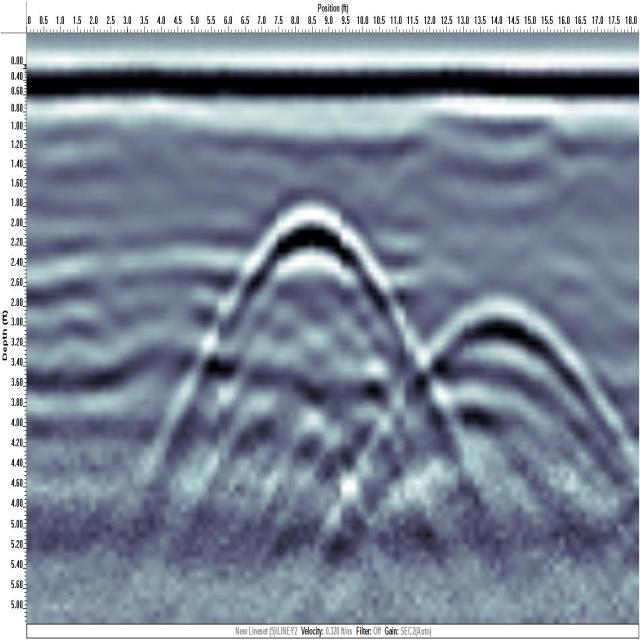hyperbola: (400, 284, 617, 449), (212, 186, 420, 335)
